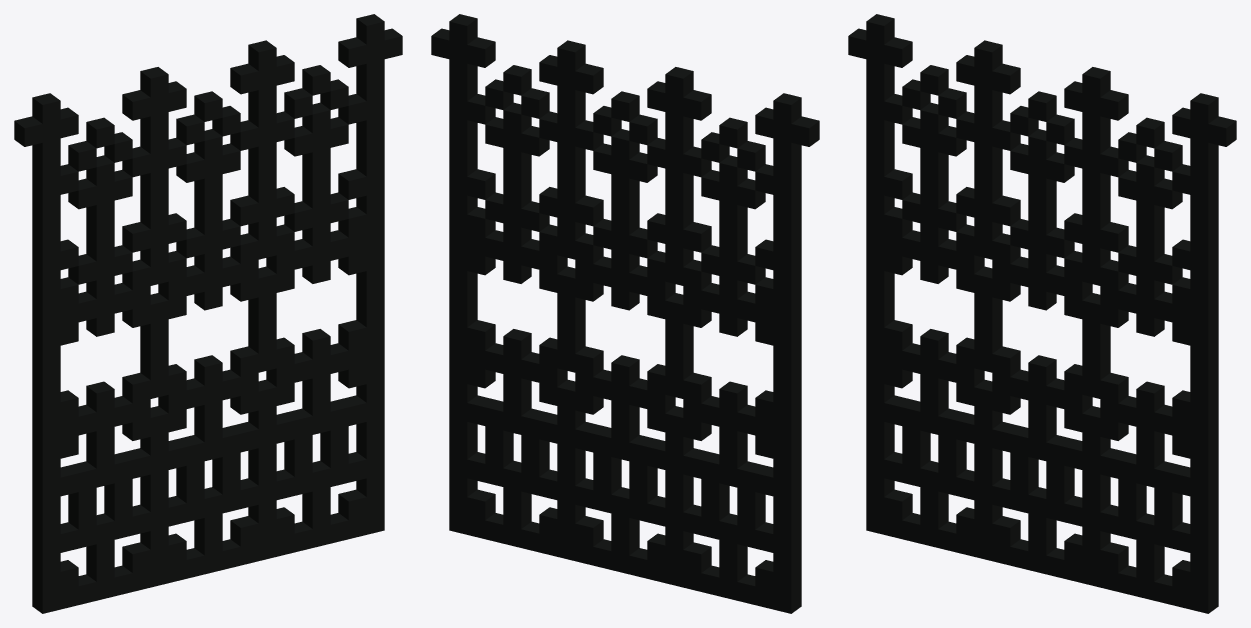
The model's file is gate.fbx.
The picture shows the model from 3 angles, left to right: view 1: azimuth 30°, elevation 25°; view 2: azimuth 150°, elevation 25°; view 3: azimuth 330°, elevation 25°; orthographic projection.
Parts seen in each view (by area): view 1: gate; view 2: gate; view 3: gate.
Part boxes in pixels (left/top/right/bottom): gate: left=14, top=14, right=402, bottom=613; gate: left=431, top=14, right=819, bottom=613; gate: left=848, top=14, right=1236, bottom=613.
Bounding box in the file's own units: 9.59 × 12.33 × 0.4565.
